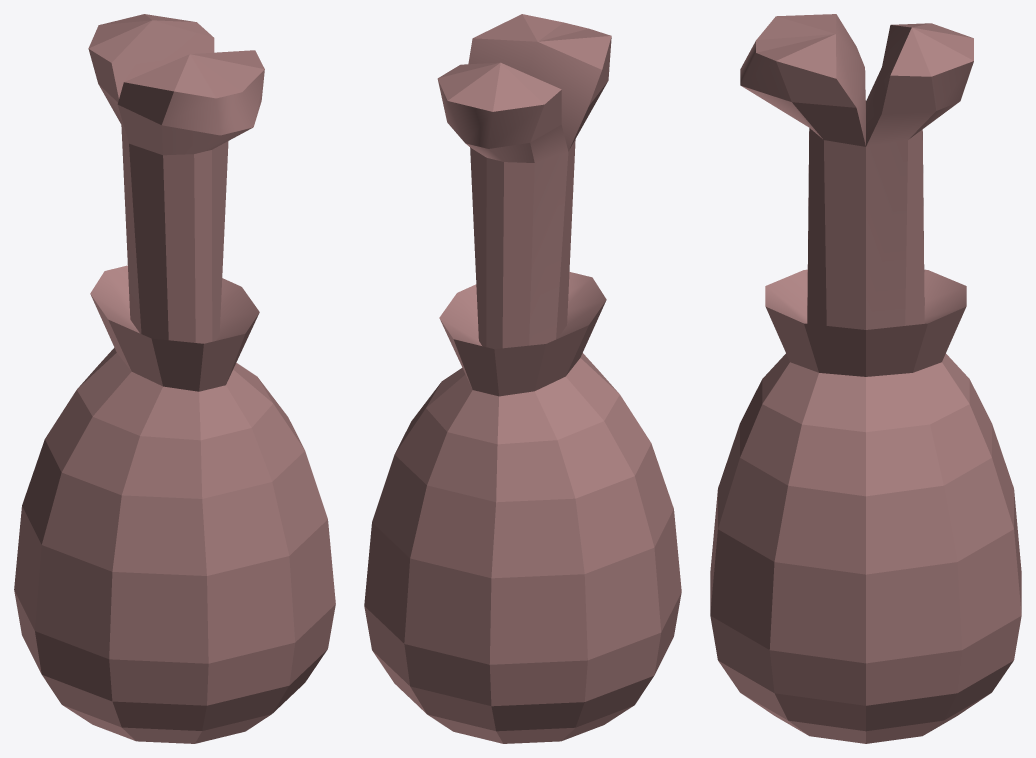
Rendered from chikenLeg_001.fbx.
3 renders of one model, left to right at view 1: azimuth 30°, elevation 25°; view 2: azimuth 150°, elevation 25°; view 3: azimuth 270°, elevation 25°, orthographic. The views are drawn at different scales.
Parts seen in each view (by area): view 1: Chiken_leg; view 2: Chiken_leg; view 3: Chiken_leg.
Part boxes in pixels (x1,y1,x2,y2): Chiken_leg: [14, 14, 335, 743]; Chiken_leg: [364, 14, 681, 743]; Chiken_leg: [710, 14, 1021, 743].
Size of the model in its own units: 20.25 by 47.78 by 19.26.
